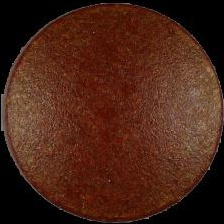10544-115: (0, 0, 224, 224)
